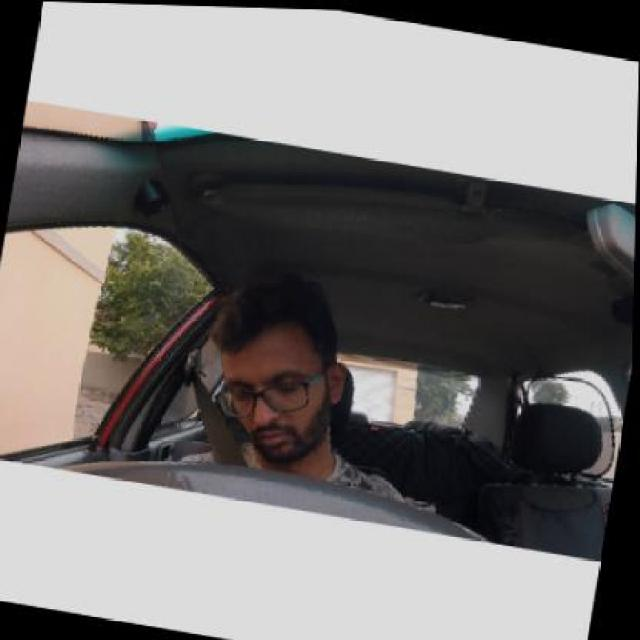drowsy: (210, 286, 355, 480)
